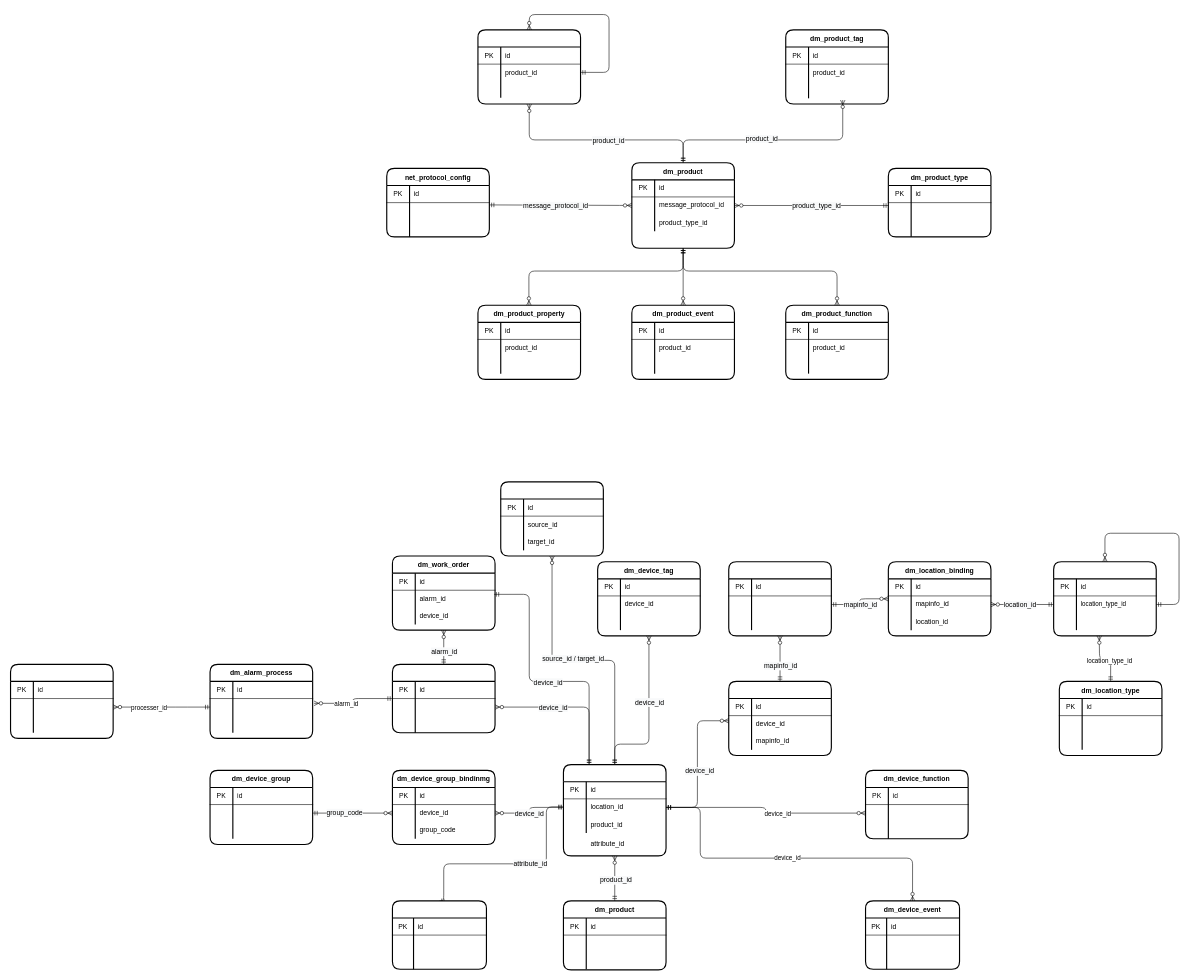
Image size: 1194x980. Some labels were removed from this diagram. Each missing label, with the box of its shape:
dm_alarm_process_log: (10, 663, 113, 739)
dm_device: (563, 764, 666, 856)
dm_device_alarm: (392, 663, 495, 733)
dm_device_associate_binding: (500, 481, 604, 556)
dm_device_attribute: (392, 900, 487, 970)
dm_device_binding: (728, 681, 832, 756)
dm_location: (1053, 561, 1157, 636)
dm_map_info: (728, 561, 832, 636)
dm_product_topic: (477, 29, 581, 104)
